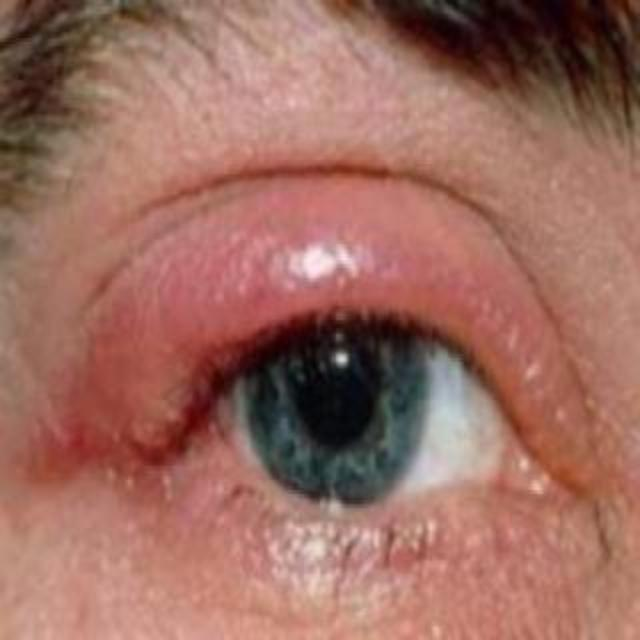Stye: (50, 158, 517, 455)
